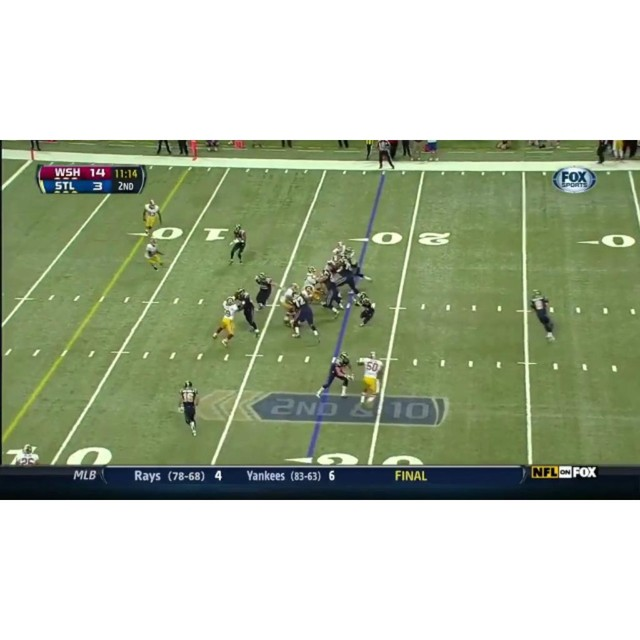american-football-player: (316, 352, 354, 399), (291, 287, 320, 341), (212, 295, 241, 348), (357, 350, 383, 409), (529, 289, 557, 343), (318, 266, 344, 317), (235, 286, 261, 336), (179, 379, 199, 437), (228, 224, 247, 265), (354, 292, 376, 327), (254, 272, 274, 309), (144, 238, 165, 271), (143, 199, 162, 235), (12, 443, 40, 466)
referee: (376, 140, 396, 170)
